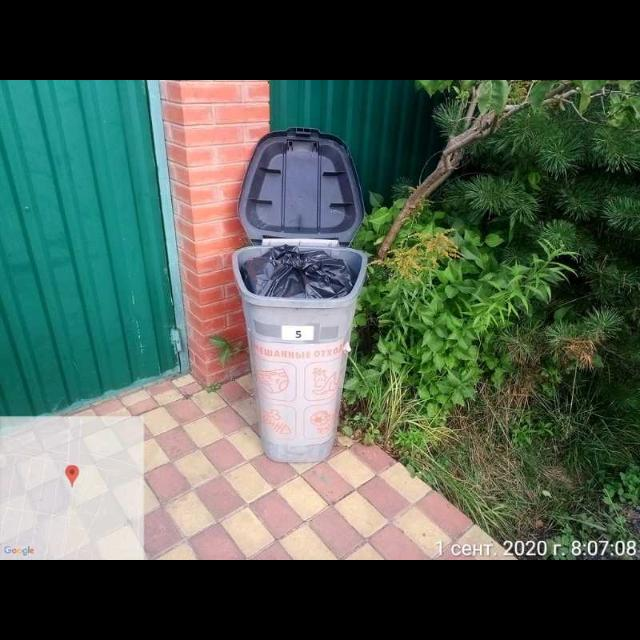Trash_Can_Full: (230, 243, 370, 463)
